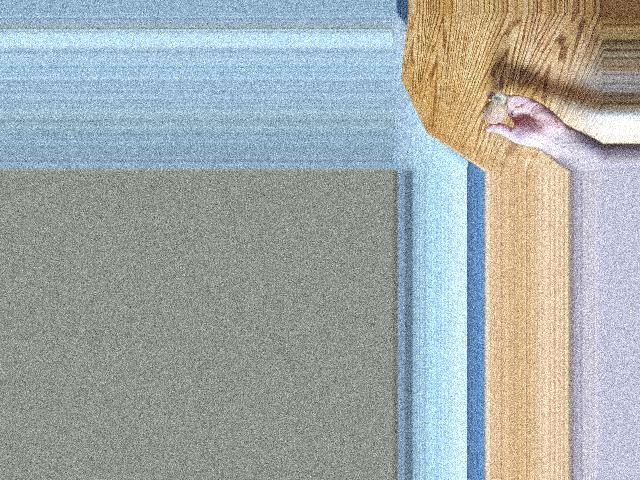sweet_potato: (472, 92, 507, 128)
